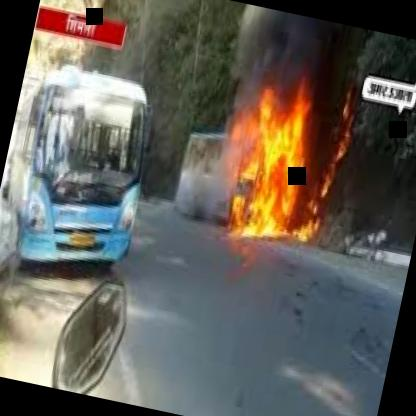fire: (203, 41, 357, 244)
